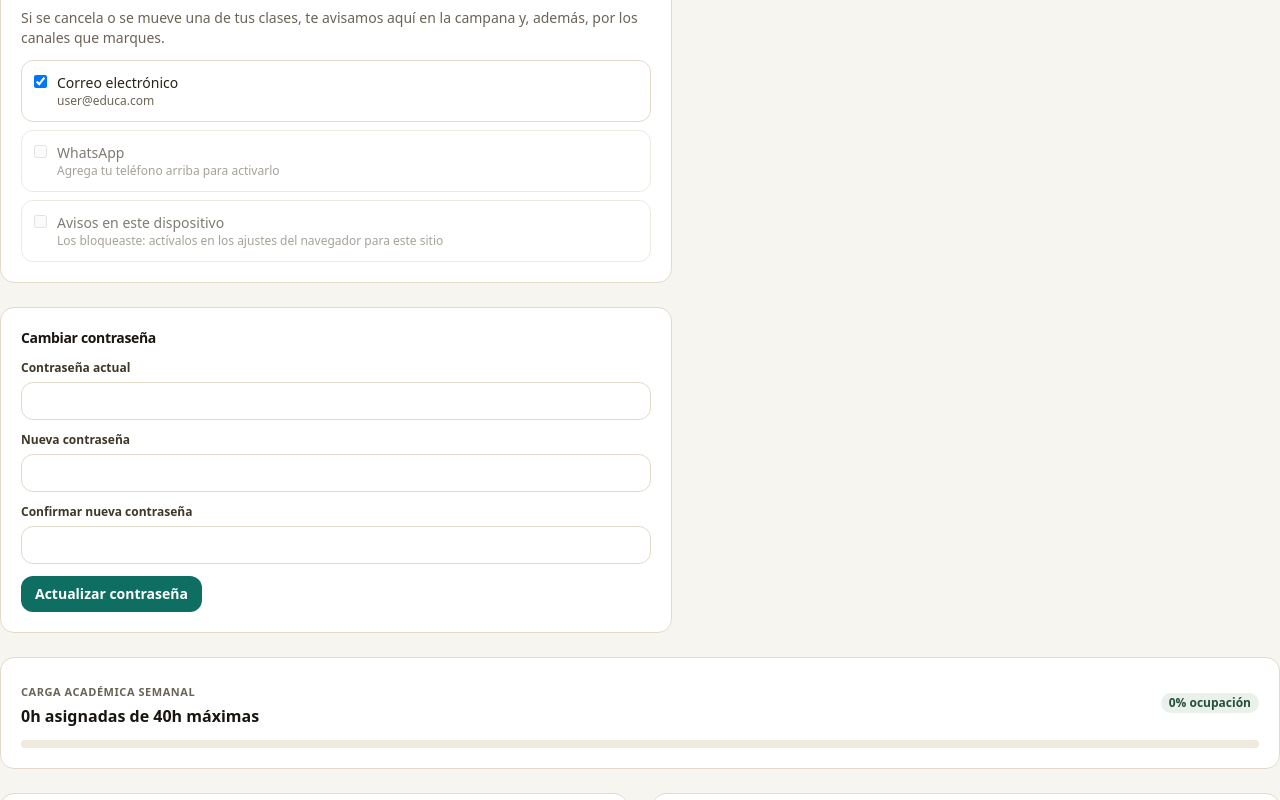
Test: ProfilePanel › enforces the minimum new-password length
The image size is (1280, 800).
(page scrolled)
Type "old-secret" into the password field labelled "Contraseña actual" at {"x": 336, "y": 400}, box [21,382,651,420]
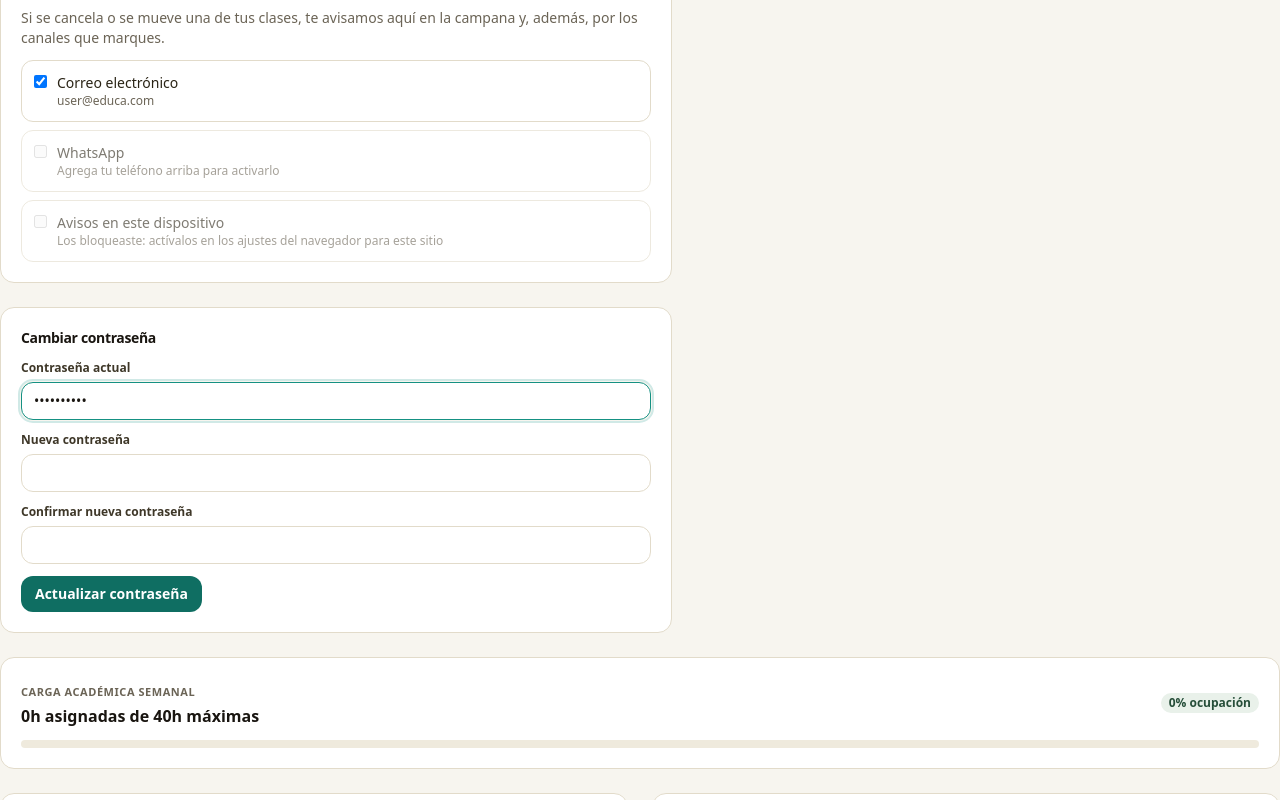
Type "short" into the password field labelled "Nueva contraseña" at {"x": 336, "y": 472}, box [21,454,651,492]
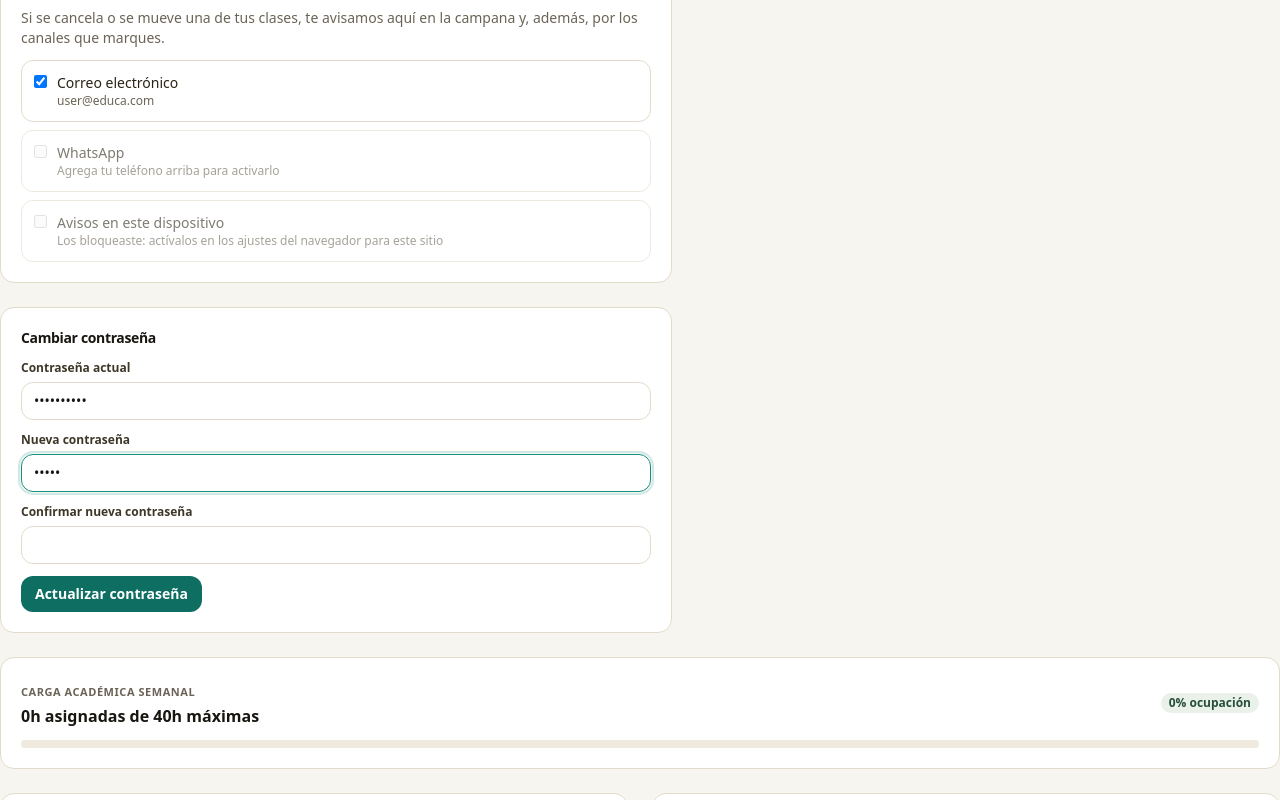
Type "short" into the password field labelled "Confirmar nueva contraseña" at {"x": 336, "y": 544}, box [21,526,651,564]
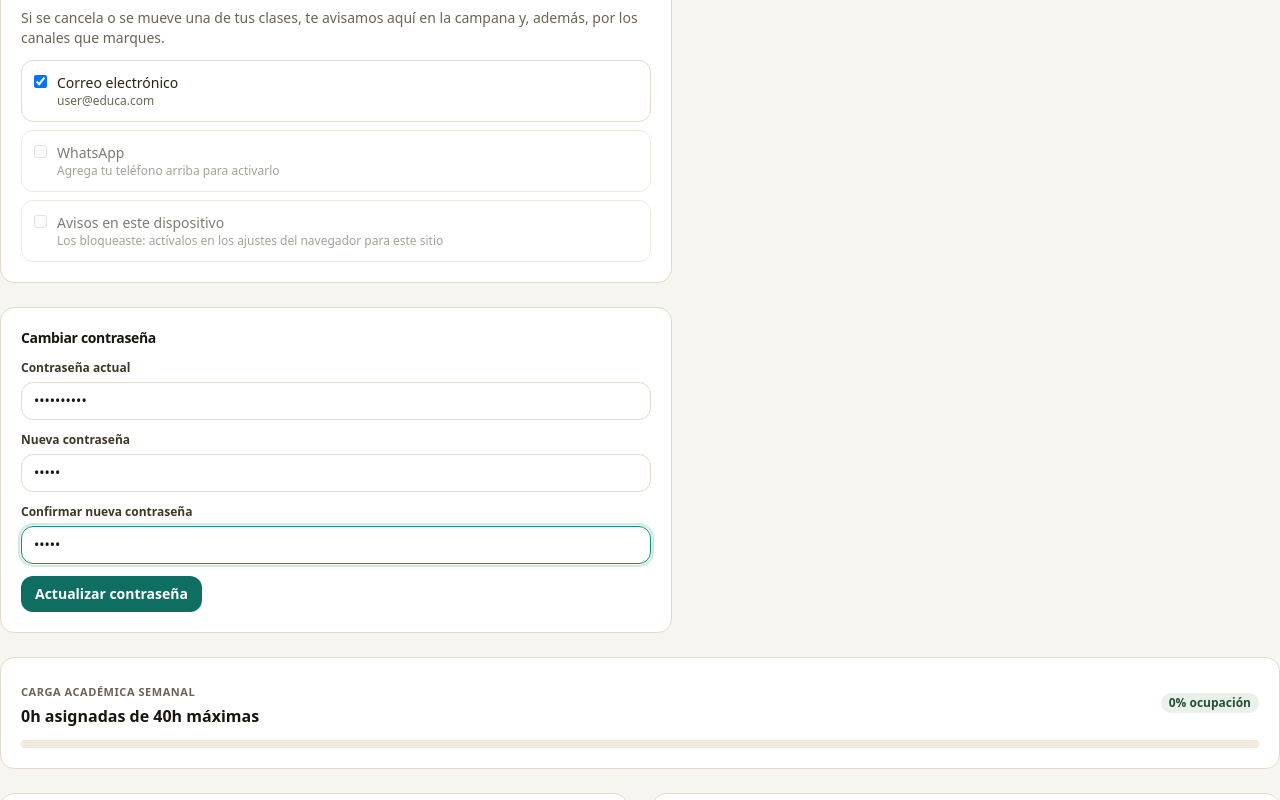
Click the button "Actualizar contraseña" at {"x": 112, "y": 594}, box [21,576,202,612]
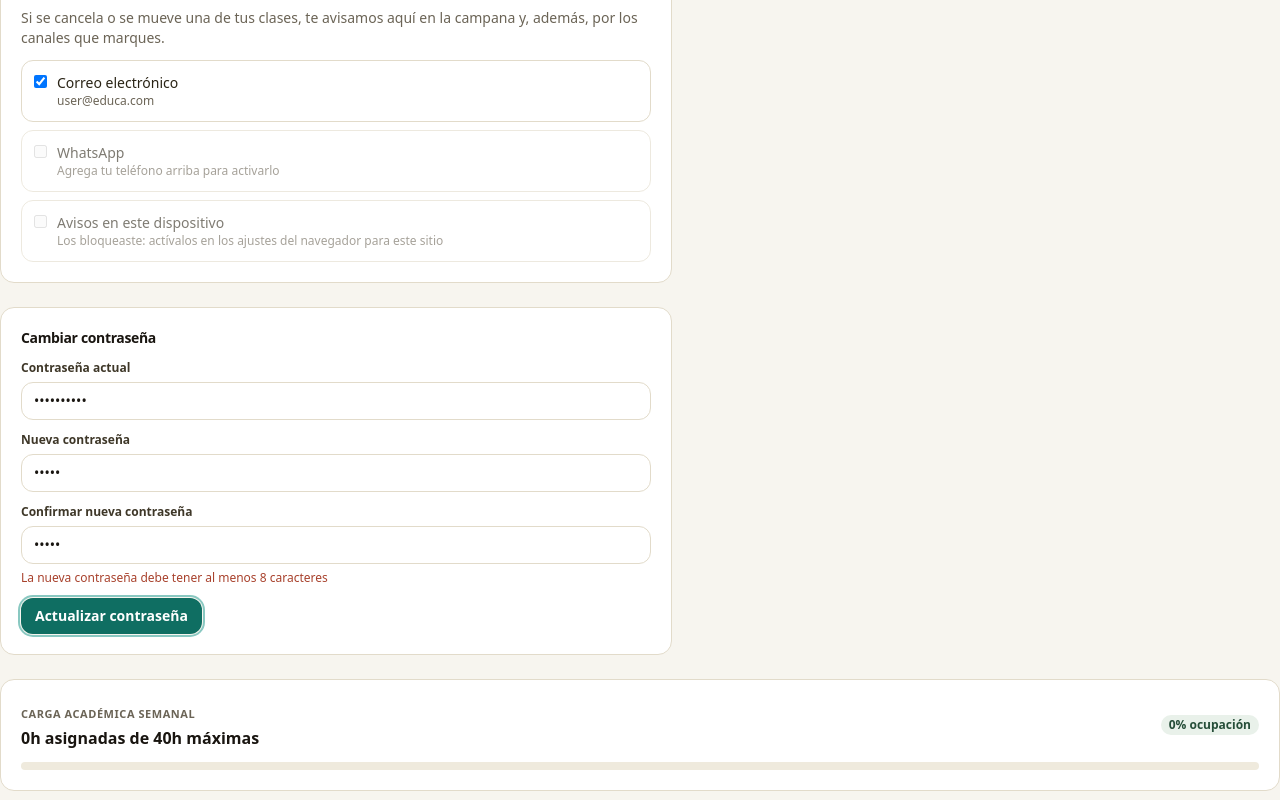
expect the text "La nueva contraseña debe tener al menos 8 caracteres" is shown: met, box [21,568,328,586]
